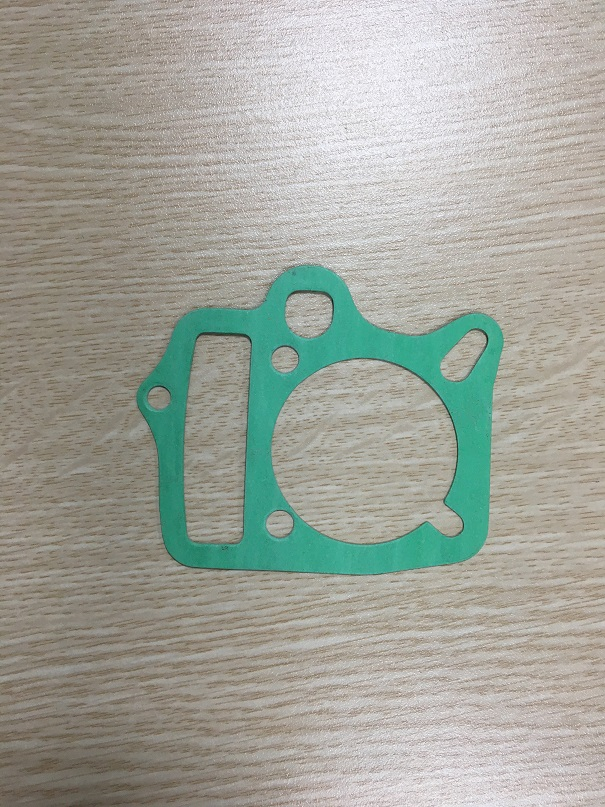type4: (123, 254, 511, 583)
